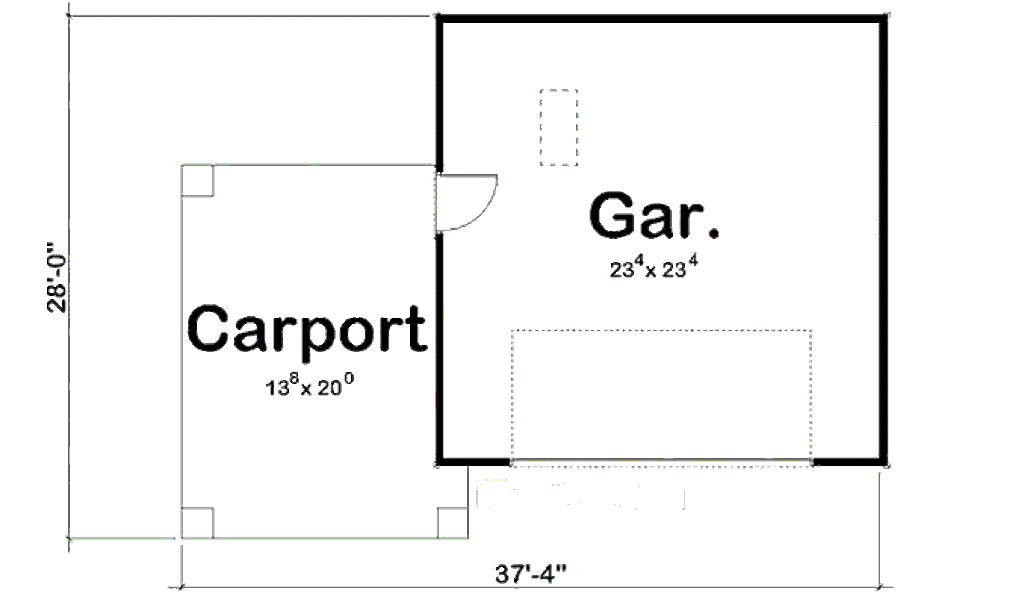door: (431, 164, 506, 243)
